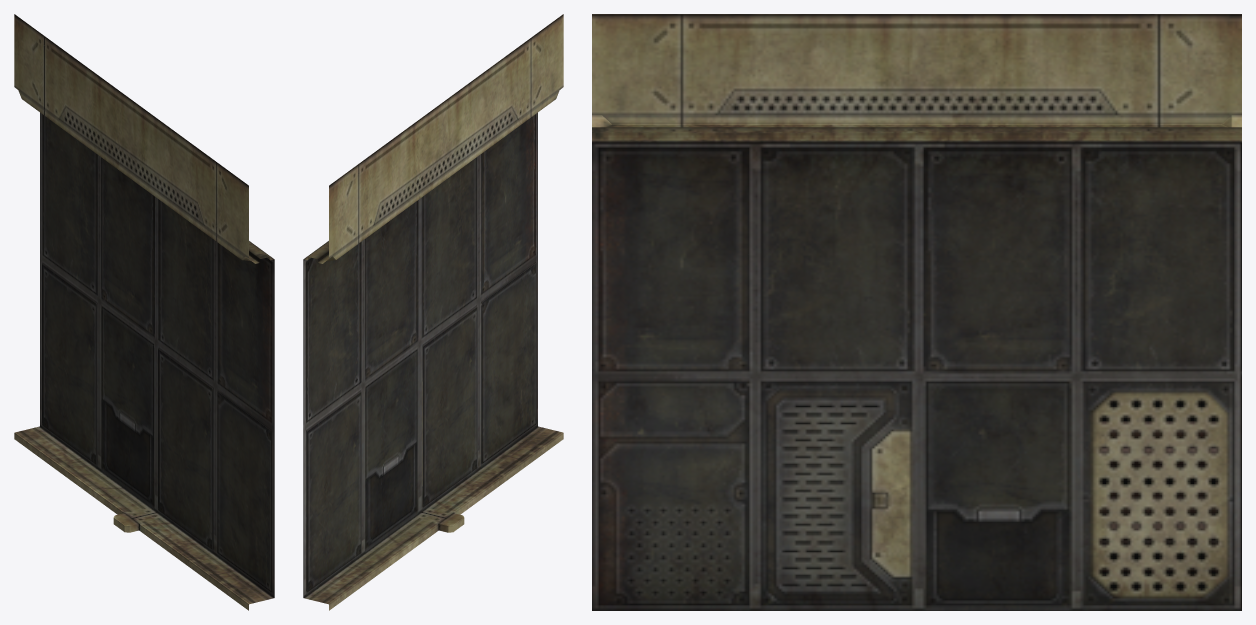
Rendered from pplant_ground_hatch2.dae.
The picture shows the model from 3 angles, left to right: view 1: azimuth 30°, elevation 25°; view 2: azimuth 150°, elevation 25°; view 3: azimuth 270°, elevation 25°; orthographic projection. The views are drawn at different scales.
Parts seen in each view (by area): view 1: ground_hatch2; view 2: ground_hatch2; view 3: ground_hatch2.
Boxes of the visible parts, x1,y1,x2,y2 form: ground_hatch2: (14,14,274,610); ground_hatch2: (303,14,563,610); ground_hatch2: (592,14,1241,610).
Bounding box in the file's own units: 0.375 × 4 × 4.
